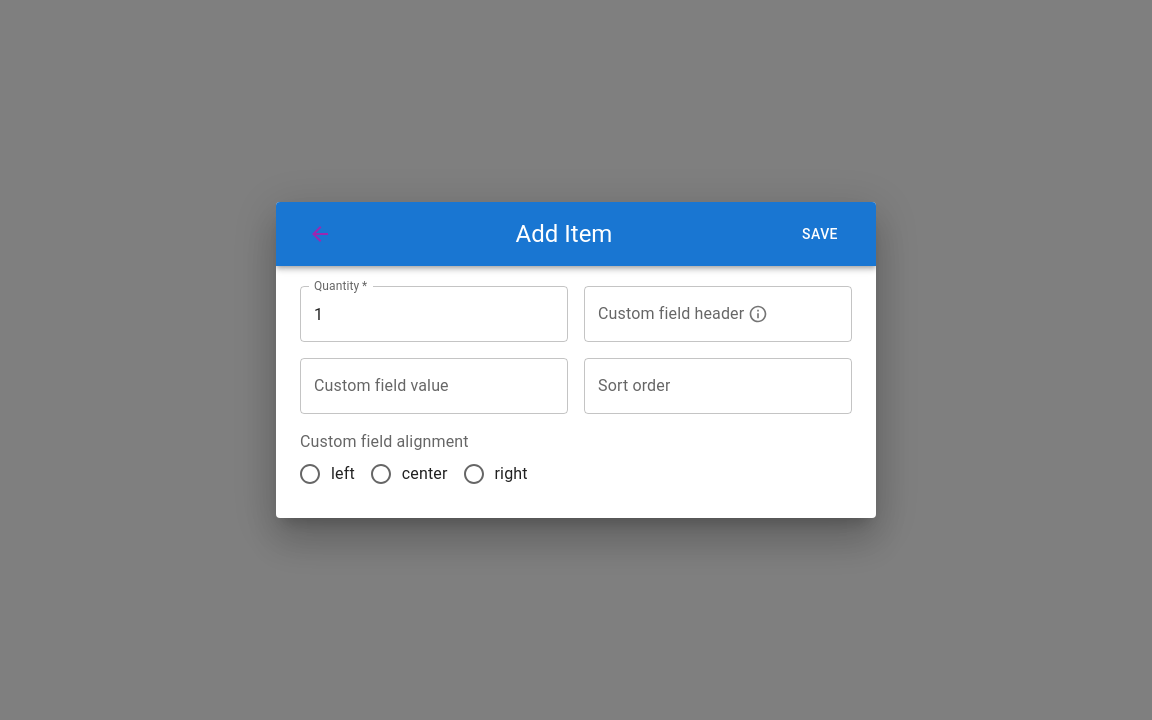
Test: ItemMetadataSetter › requires the value field once a custom field header is entered
Type "Purchase Order" into the dropdown labelled "Custom field header" at (703, 314), box [593, 295, 813, 333]
Then press Enter
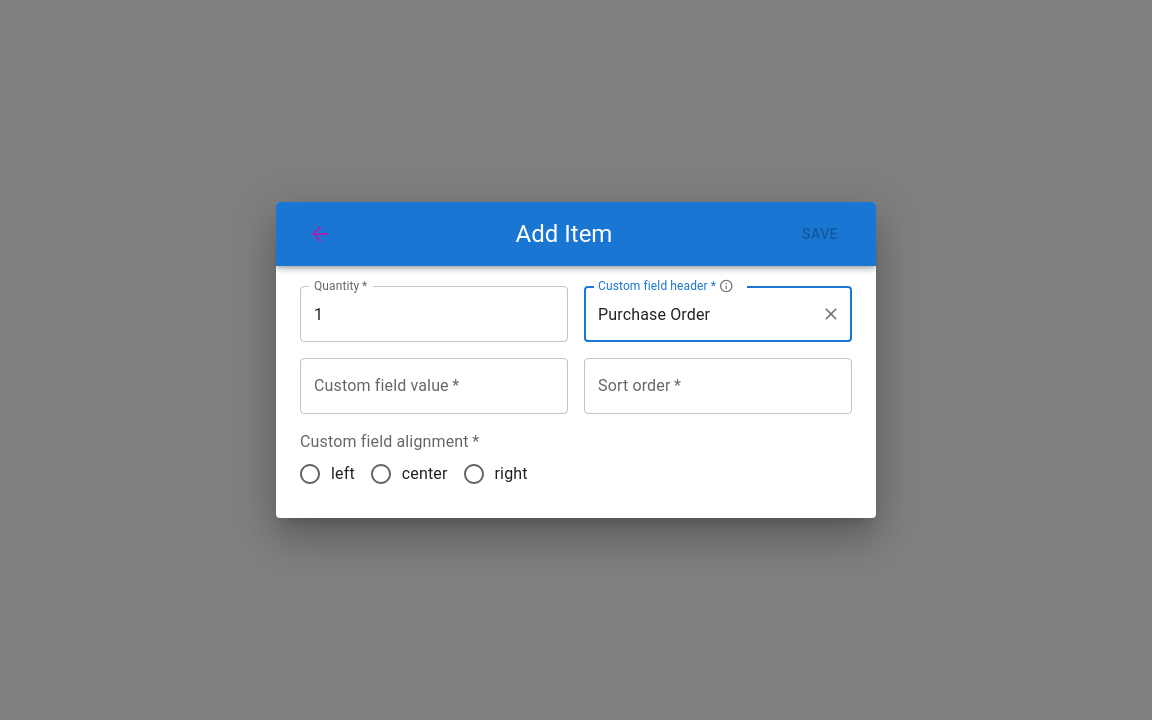
Check: the button "Save" is disabled, box [788, 216, 852, 252]
